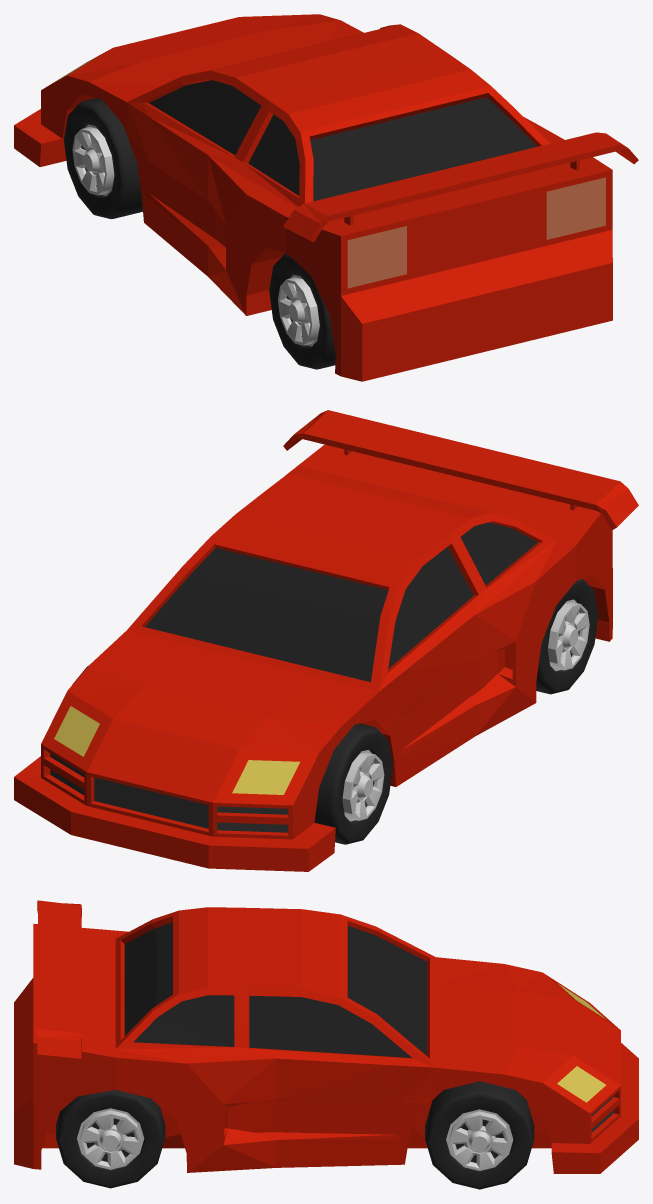
File: car1.dae
3 renders of one model, top to bottom at view 1: azimuth 30°, elevation 25°; view 2: azimuth 150°, elevation 25°; view 3: azimuth 270°, elevation 25°, orthographic. The views are drawn at different scales.
Visible parts, largest first — view 1: Cube_002, Cylinder_006, Cylinder_007; view 2: Cube_002, Cylinder_006, Cylinder_007; view 3: Cube_002, Cylinder_005, Cylinder_013.
Boxes of the visible parts, x1,y1,x2,y2 form: Cube_002: [14, 14, 638, 381]; Cylinder_006: [63, 98, 142, 218]; Cylinder_007: [269, 253, 335, 369]; Cube_002: [14, 410, 638, 871]; Cylinder_006: [314, 723, 392, 844]; Cylinder_007: [536, 578, 598, 694]; Cube_002: [14, 900, 638, 1173]; Cylinder_005: [425, 1081, 534, 1189]; Cylinder_013: [56, 1090, 165, 1188].
Size of the model in its own units: 4.64 by 8.37 by 2.69.
